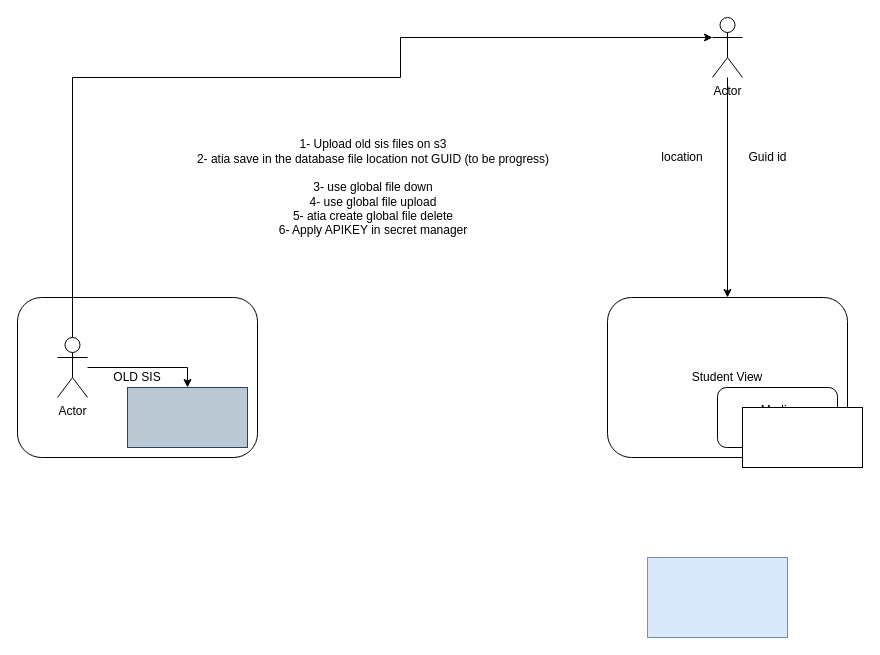
Some shapes in this 880 by 655 pixel diagram are drawn without their labels. Each missing label, with the centre of its shape:
"Key and location" goes at (x=802, y=437).
"S3" goes at (x=717, y=597).
